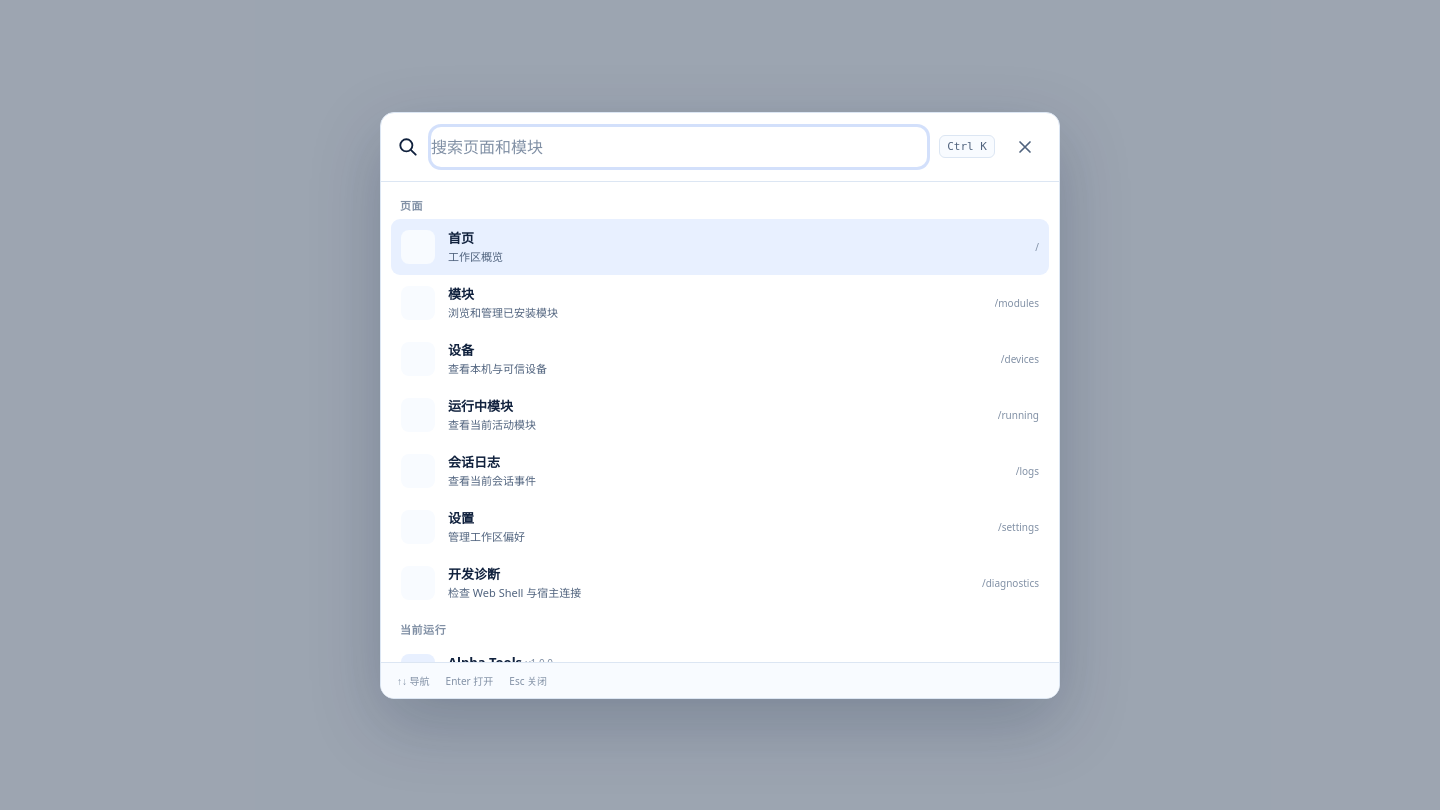
it: QCommandPalette › localizes group and empty-state labels without changing keyboard behavior
Type "nothing-matches-this" into the dropdown with placeholder "搜索页面和模块" at (679, 146), box [431,126,927,166]
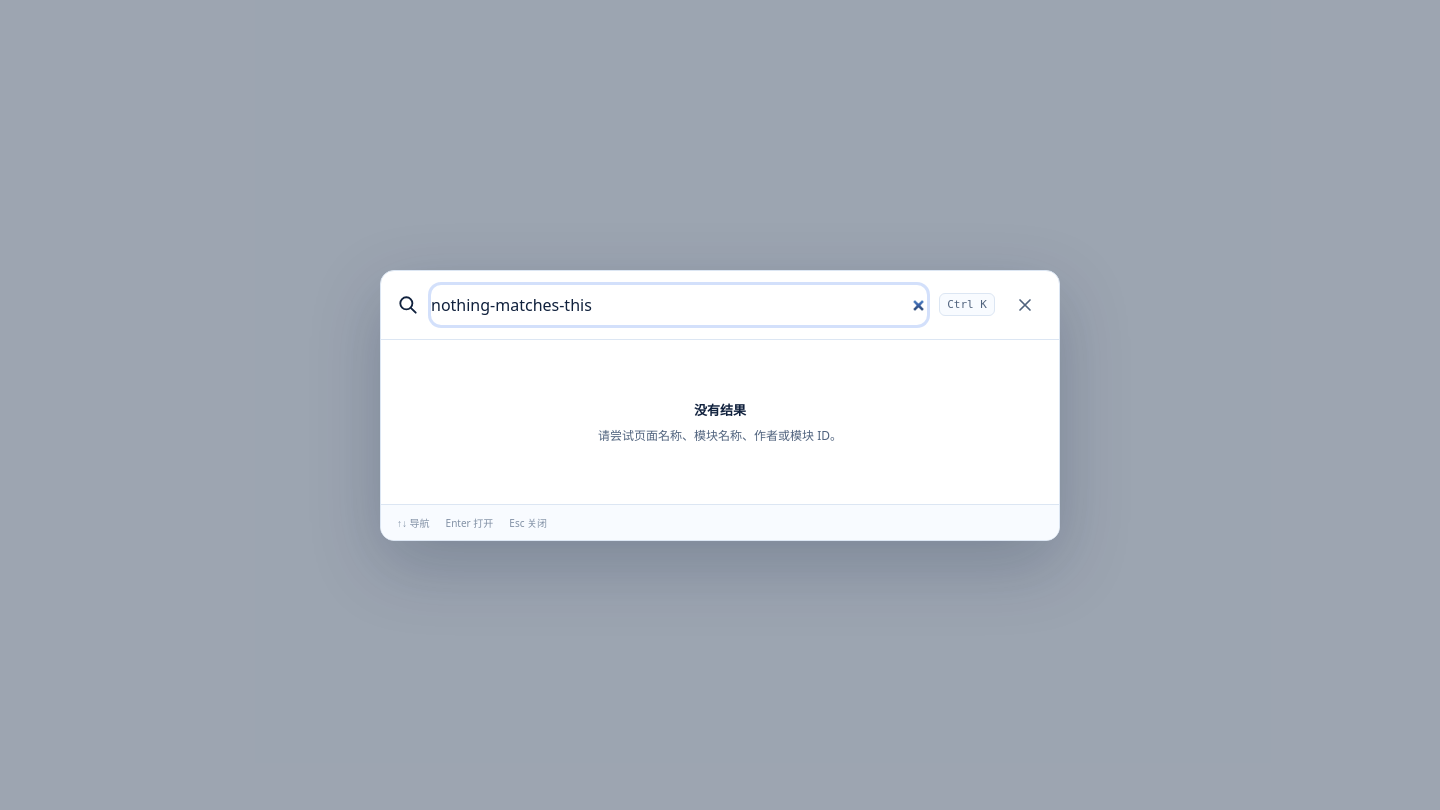
Result: the text "没有结果" is shown at [694,400,746,418]
Result: the text "模块 ID" is shown at [598,426,842,444]
